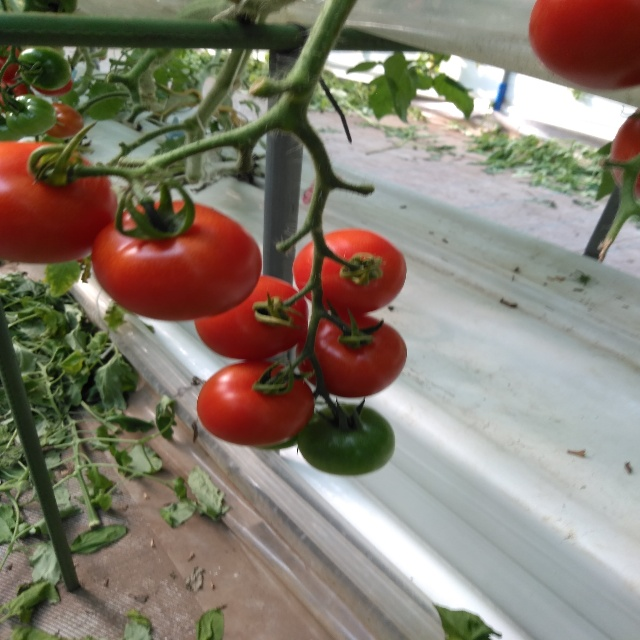l_fully_ripened: (90, 200, 263, 321), (0, 141, 117, 264), (196, 359, 315, 447), (528, 0, 640, 91), (292, 228, 407, 315), (193, 275, 309, 361), (294, 313, 407, 398)
l_green: (295, 403, 397, 477), (16, 47, 72, 91), (3, 94, 56, 137)
l_half_ripened: (44, 103, 85, 138)
